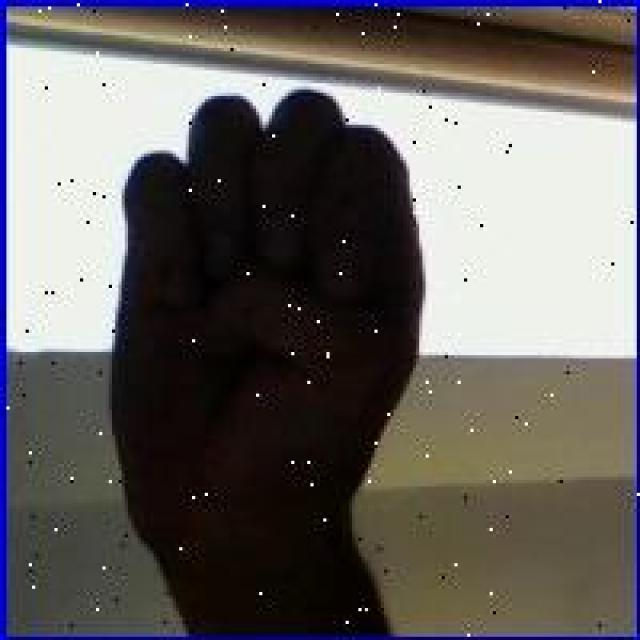E: (110, 80, 437, 560)
